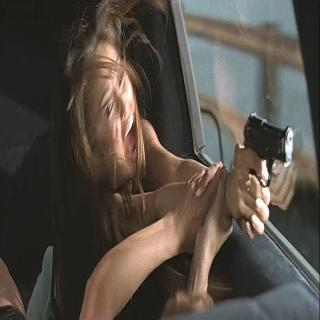gun: (228, 99, 294, 248)
